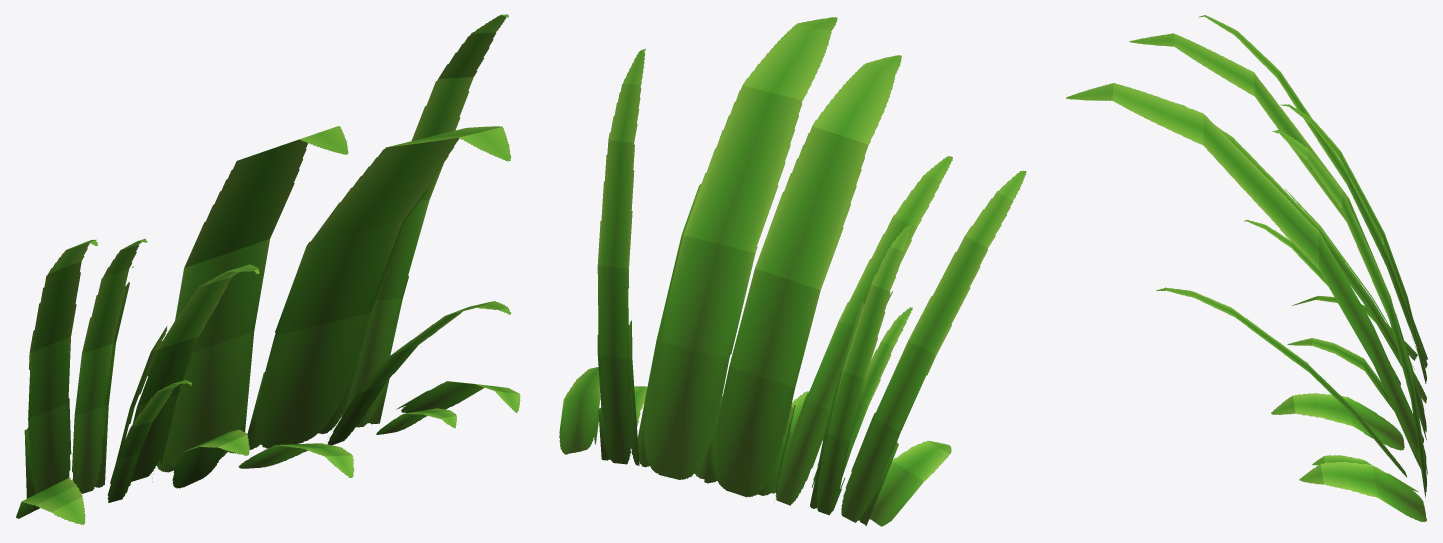
File: CGrass.fbx
3 views of the same model, side by side, from view 1: azimuth 30°, elevation 25°; view 2: azimuth 150°, elevation 25°; view 3: azimuth 270°, elevation 25° (orthographic). The views are drawn at different scales.
Parts seen in each view (by area): view 1: Plane.007; view 2: Plane.007; view 3: Plane.007.
Part boxes in pixels (bbox=[...]): Plane.007: bbox=[16, 14, 520, 524]; Plane.007: bbox=[559, 17, 1026, 526]; Plane.007: bbox=[1066, 15, 1427, 521].
Bounding box in the file's own units: 39.62 × 34.85 × 29.99.
1 material, 1 textured.
